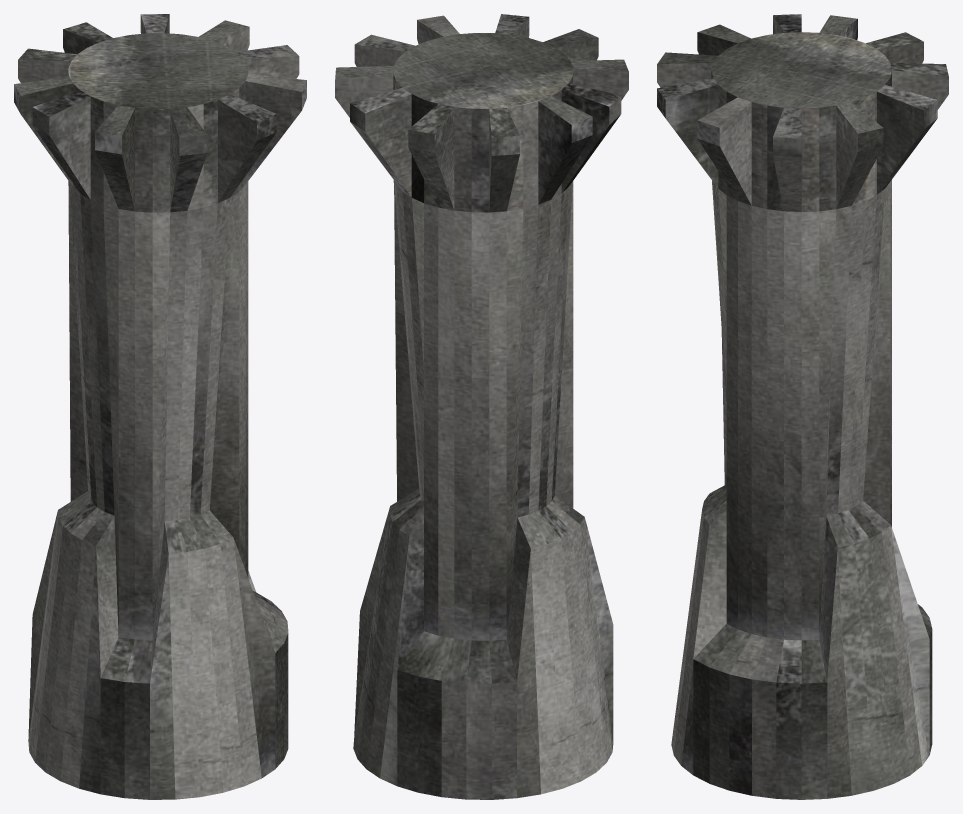
Rendered from R1_Obstacle.obj.
3 views of the same model, side by side, from view 1: azimuth 30°, elevation 25°; view 2: azimuth 150°, elevation 25°; view 3: azimuth 270°, elevation 25° (orthographic).
Visible parts, largest first — view 1: Cylinder; view 2: Cylinder; view 3: Cylinder.
Part boxes in pixels (left/top/right/bottom): Cylinder: left=14, top=14, right=306, bottom=799; Cylinder: left=335, top=14, right=628, bottom=799; Cylinder: left=657, top=14, right=948, bottom=799.
Size of the model in its own units: 2.26 by 5.71 by 2.24.
1 material, 1 textured.
